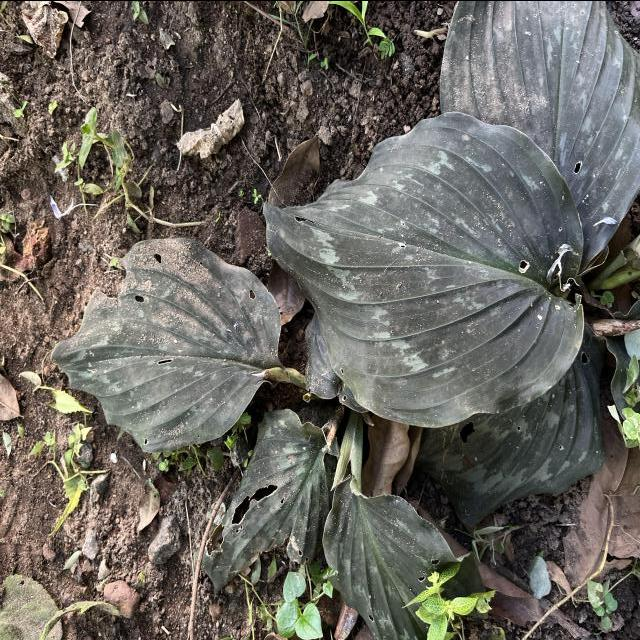Kaempferia galanga linn: (256, 107, 592, 430), (47, 234, 285, 455)
